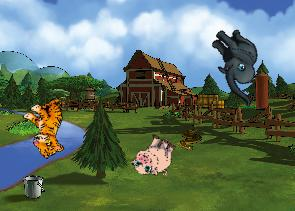elephant: (192, 21, 281, 107)
pig: (128, 129, 180, 183)
tiger: (16, 92, 81, 161)
